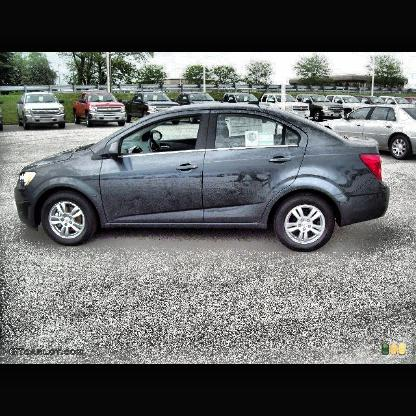Chevrolet Sonic Sedan 2012: (13, 100, 392, 265)
